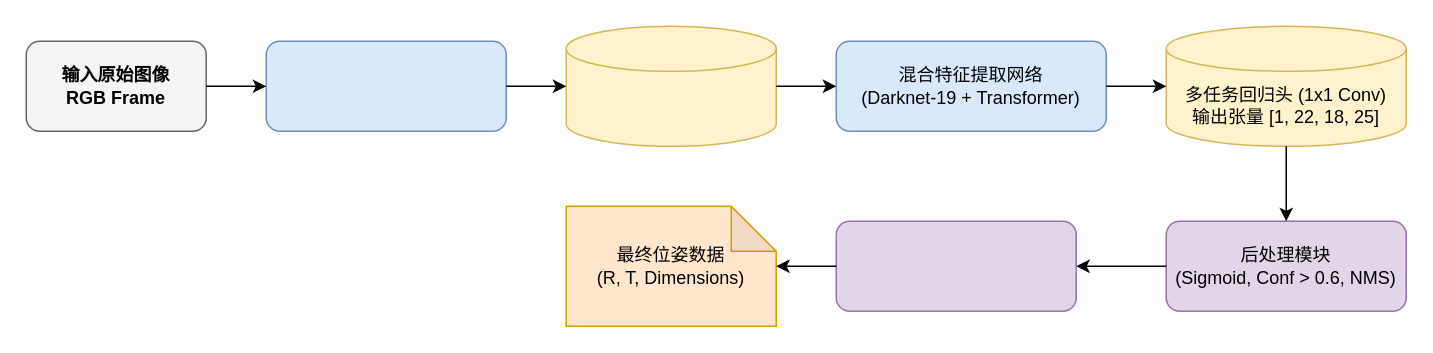
This 1433x353 diagram has some shape labels left out. Each missing label, with the centre of its shape:
"几何解算器 (EPnP) 结合相机内参 K" goes at [955,265].
"图像预处理 (Resize 800x600, Normalization)" goes at [385,85].
"张量转换 Tensor [1, 3, 600, 800]" goes at [670,85].
